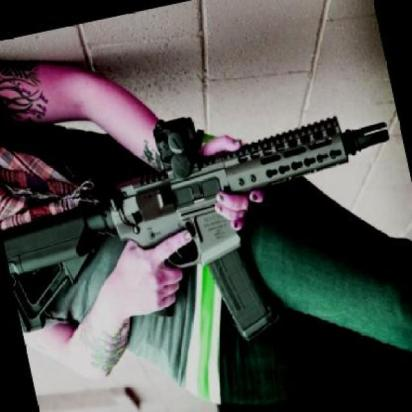Gun: (0, 98, 412, 360)
